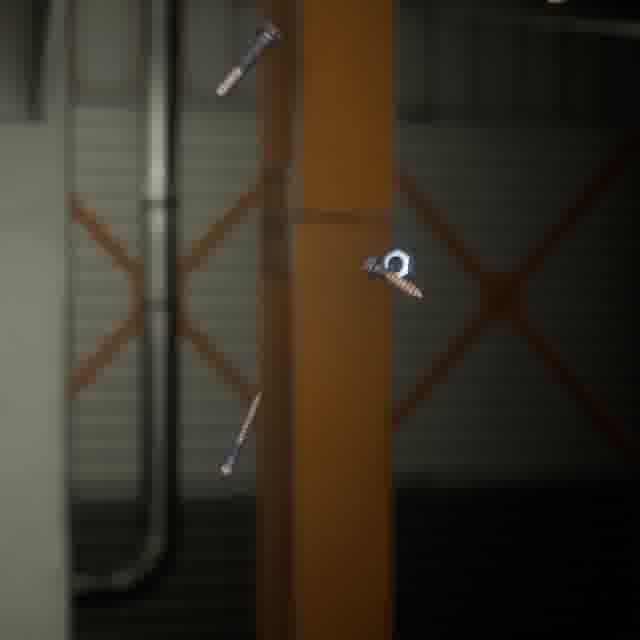bolt: (207, 17, 287, 105), (212, 387, 266, 481), (358, 248, 427, 304)
nut: (378, 244, 418, 283)
